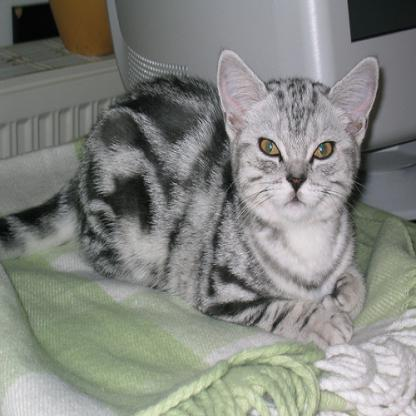cat: (0, 49, 379, 350)
